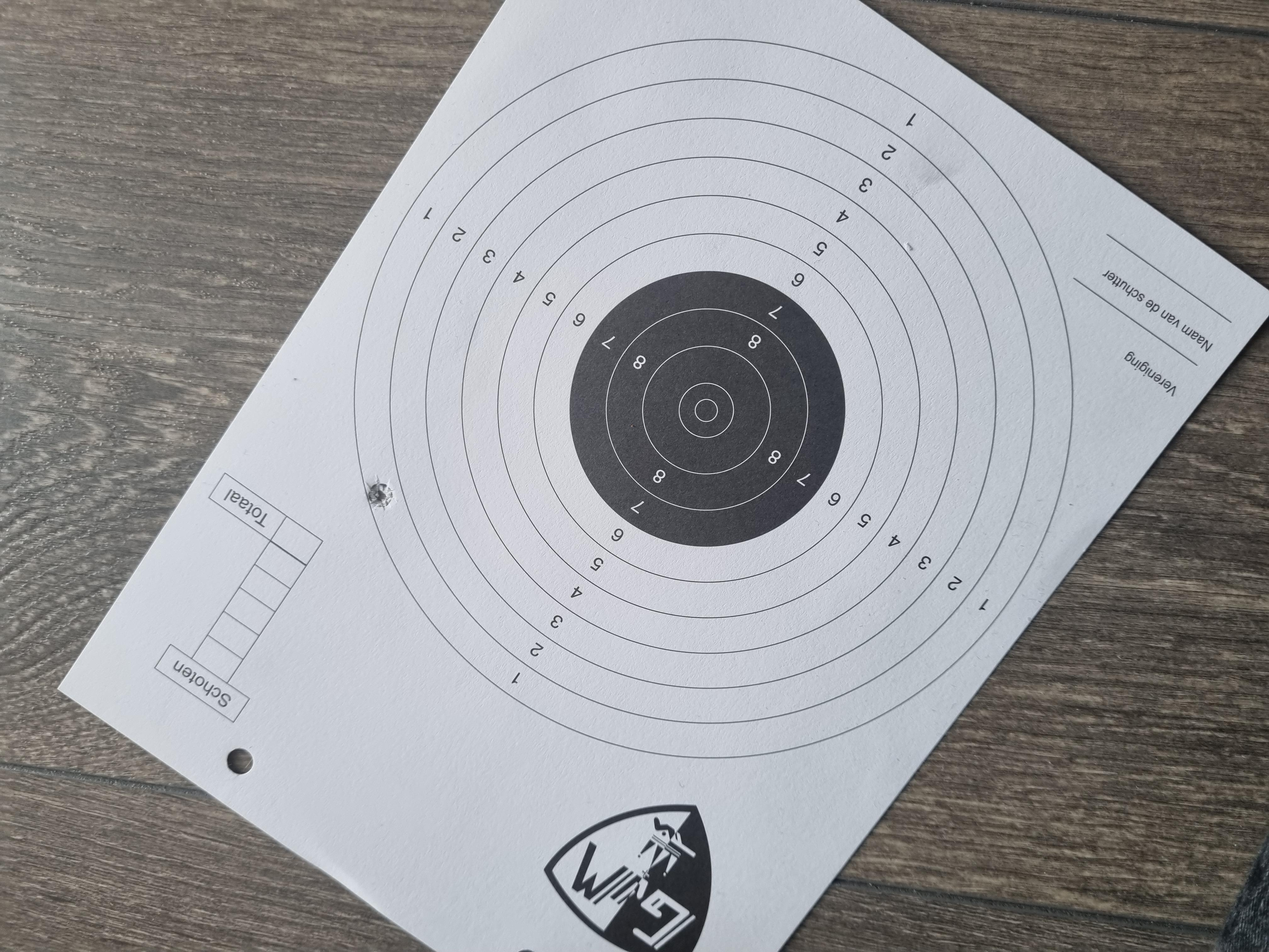hole: (590, 275, 635, 295)
